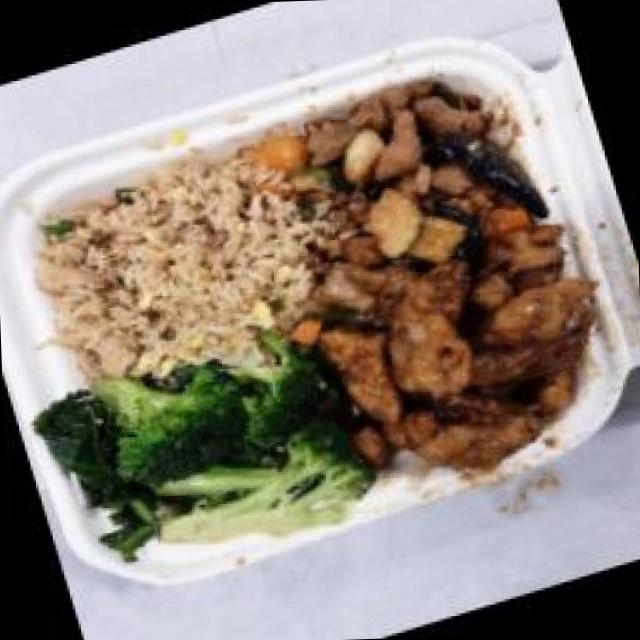Kung Pao Chicken: (245, 49, 578, 342)
Super Greens: (20, 298, 388, 595)
The Original Orange Chicken: (263, 184, 640, 524)
White Steamed Rice: (1, 119, 350, 416)
